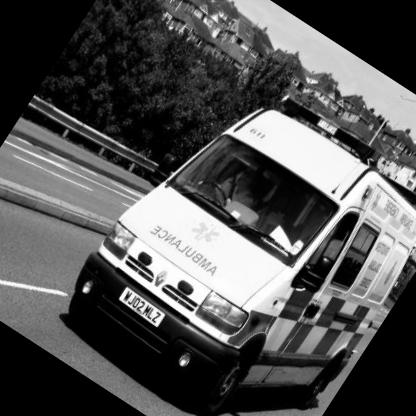ambulance: (41, 46, 416, 416)
